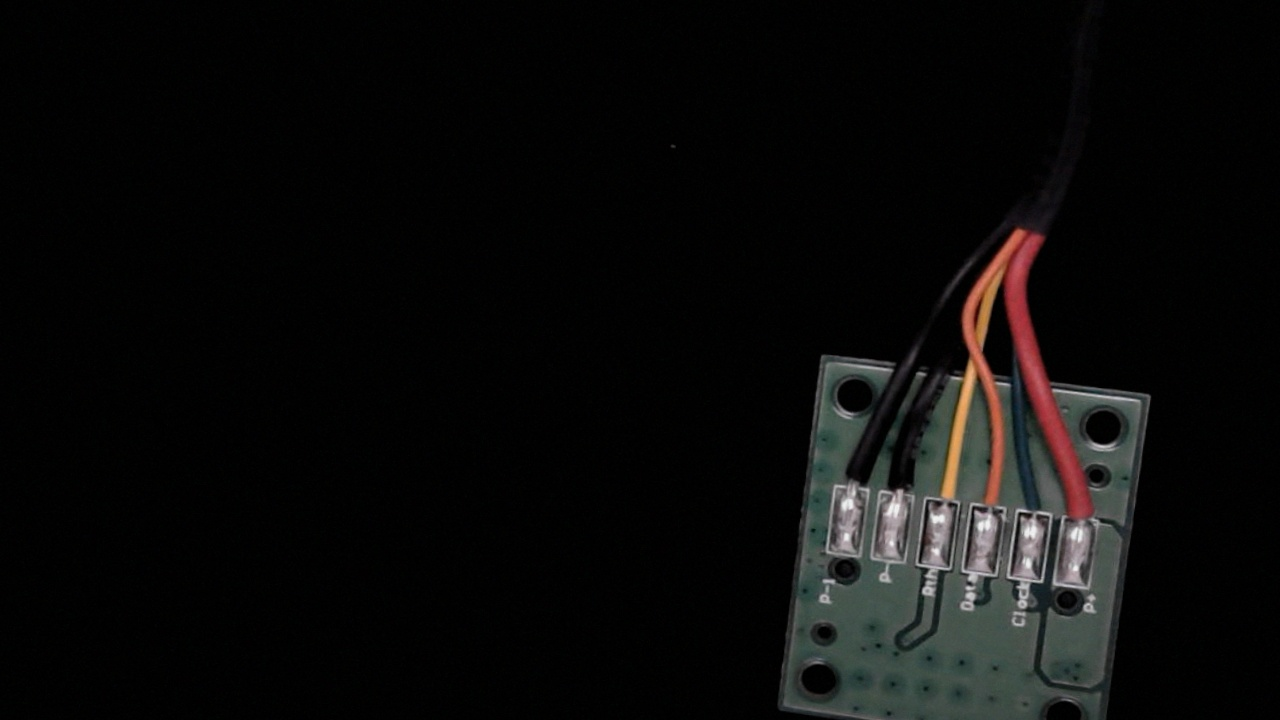Black: (879, 436, 927, 516)
Black1: (829, 431, 879, 510)
Green: (1014, 462, 1063, 536)
Orange: (969, 460, 1014, 530)
Red: (1061, 468, 1109, 542)
Yellow: (925, 447, 971, 525)
